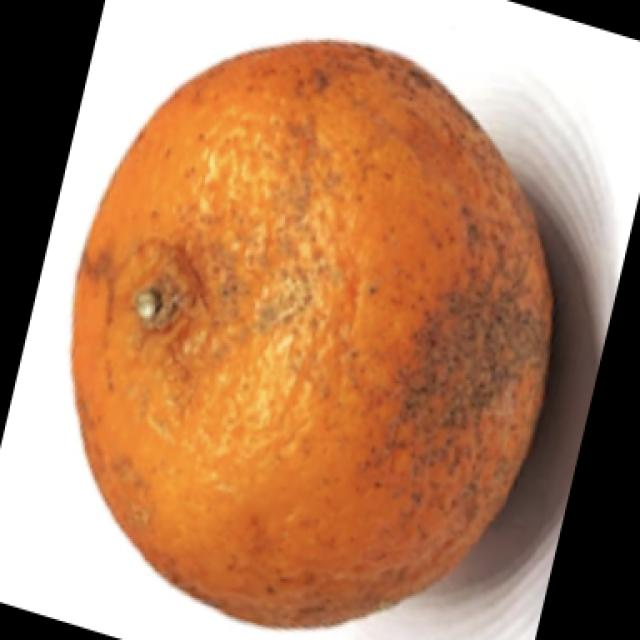sedikit_busuk: (75, 39, 544, 627)
